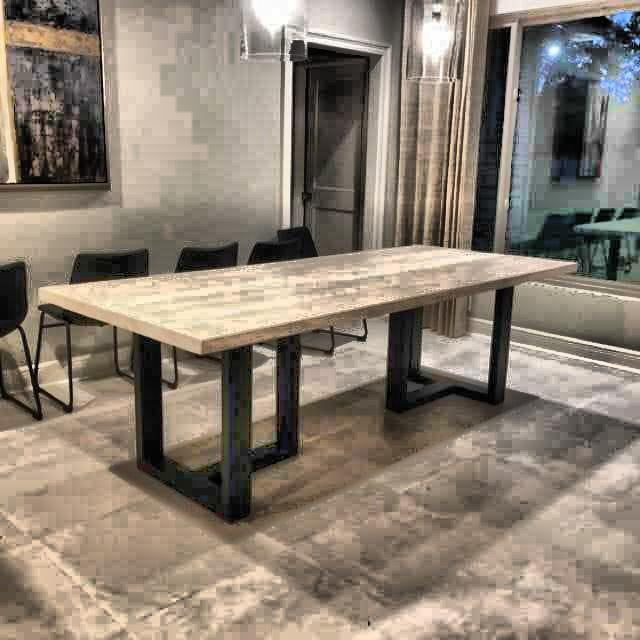mesa: (33, 220, 601, 525)
